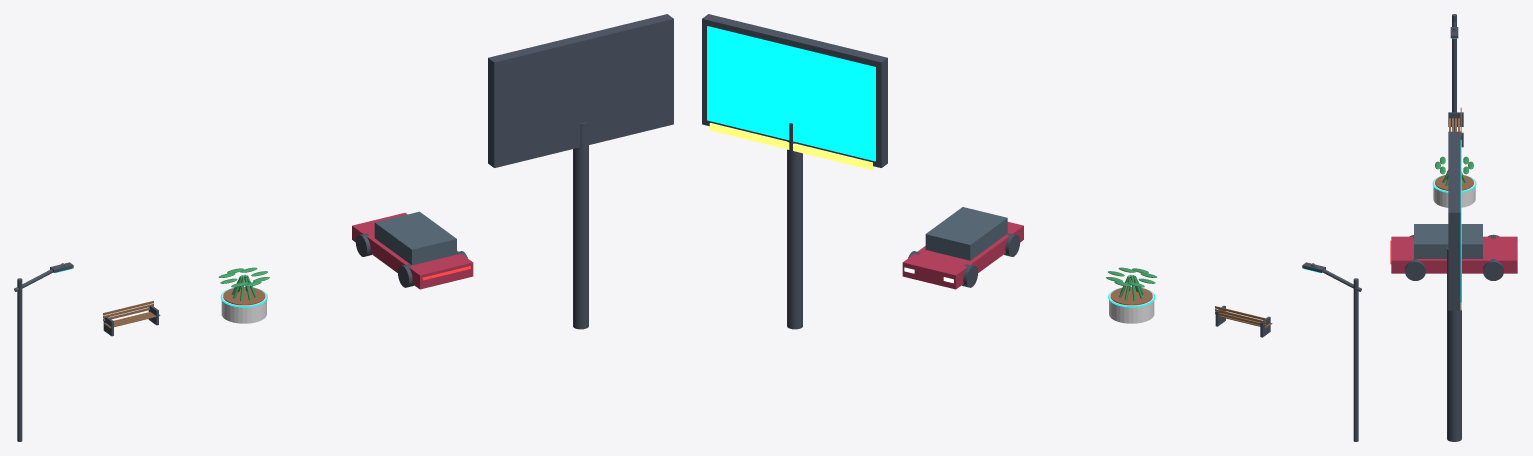
The model's file is city_assets.glb.
3 renders of one model, left to right at view 1: azimuth 30°, elevation 25°; view 2: azimuth 150°, elevation 25°; view 3: azimuth 270°, elevation 25°, orthographic. The views are drawn at different scales.
Parts seen in each view (by area): view 1: Prop_Billboard, Vehicle_Sedan, Prop_Planter, Prop_Streetlight, Prop_Bench; view 2: Prop_Billboard, Vehicle_Sedan, Prop_Planter, Prop_Streetlight, Prop_Bench; view 3: Vehicle_Sedan, Prop_Billboard, Prop_Planter, Prop_Streetlight, Prop_Bench.
Boxes of the visible parts, bbox=[...] form: Prop_Billboard: bbox=[488, 14, 673, 329]; Vehicle_Sedan: bbox=[352, 211, 473, 289]; Prop_Planter: bbox=[218, 267, 269, 323]; Prop_Streetlight: bbox=[14, 262, 73, 441]; Prop_Bench: bbox=[103, 301, 160, 336]; Prop_Billboard: bbox=[702, 14, 887, 329]; Vehicle_Sedan: bbox=[902, 207, 1023, 289]; Prop_Planter: bbox=[1106, 267, 1157, 323]; Prop_Streetlight: bbox=[1302, 262, 1361, 441]; Prop_Bench: bbox=[1215, 305, 1272, 337]; Vehicle_Sedan: bbox=[1390, 224, 1518, 280]; Prop_Billboard: bbox=[1447, 131, 1461, 441]; Prop_Planter: bbox=[1432, 156, 1476, 207]; Prop_Streetlight: bbox=[1450, 14, 1458, 131]; Prop_Bench: bbox=[1448, 107, 1463, 147].
Size of the model in its own units: 23.38 by 9.8 by 4.27.
